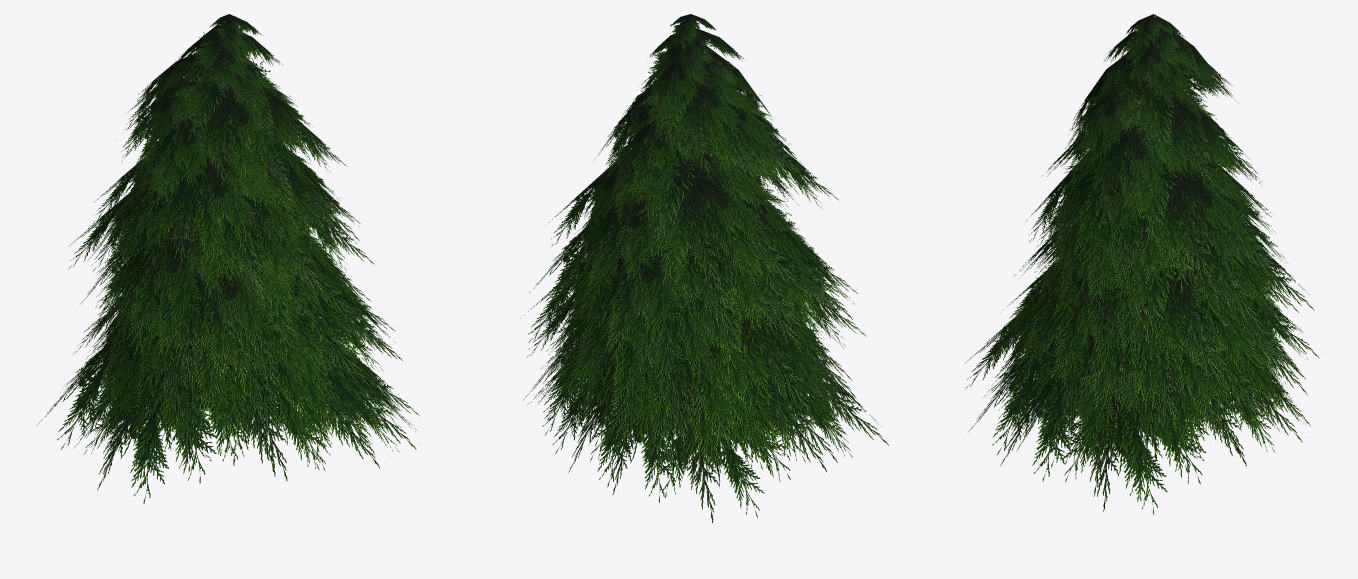
Rendered from conifer_branches.dae.
3 views of the same model, side by side, from view 1: azimuth 30°, elevation 25°; view 2: azimuth 150°, elevation 25°; view 3: azimuth 270°, elevation 25° (orthographic). The views are drawn at different scales.
Visible parts, largest first — view 1: Branches; view 2: Branches; view 3: Branches.
Part boxes in pixels (bbox=[...]): Branches: bbox=[36, 14, 420, 503]; Branches: bbox=[520, 14, 888, 522]; Branches: bbox=[965, 14, 1319, 514].
Bounding box in the file's own units: 8.06 × 7.74 × 9.83.
Materials: 1 (1 with a texture image).
